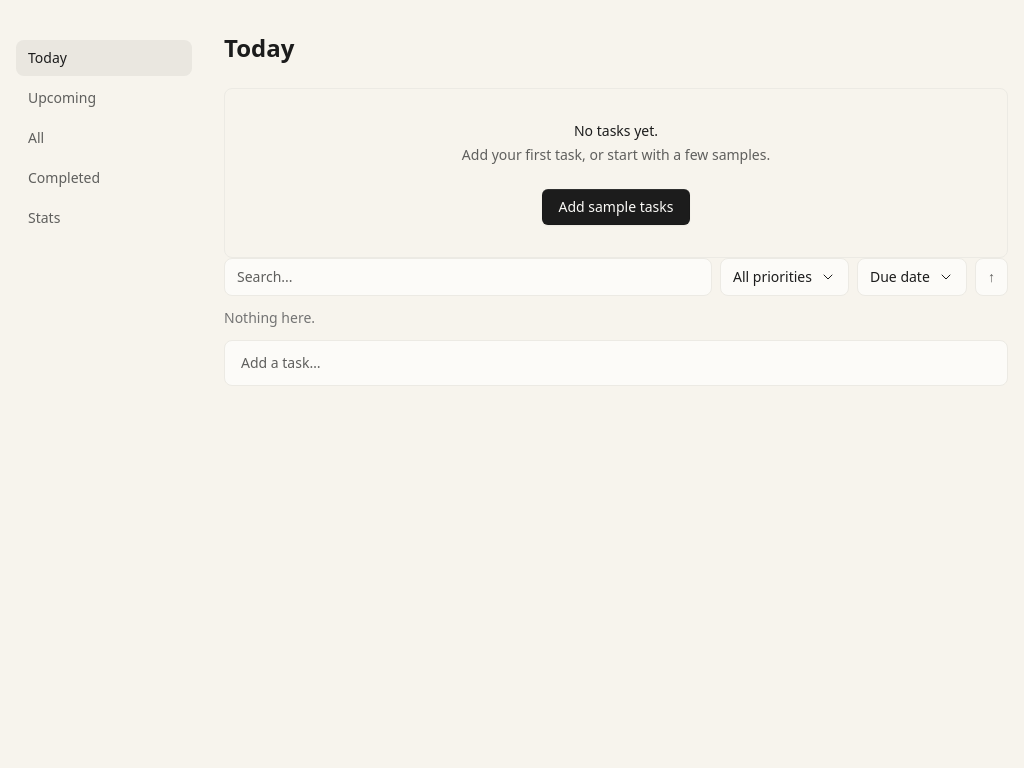
Test: QuickAdd AI — natural-language parse › successful parse pre-fills manual fields and confirming adds the task
Type keys "{Meta>}k{/Meta}"
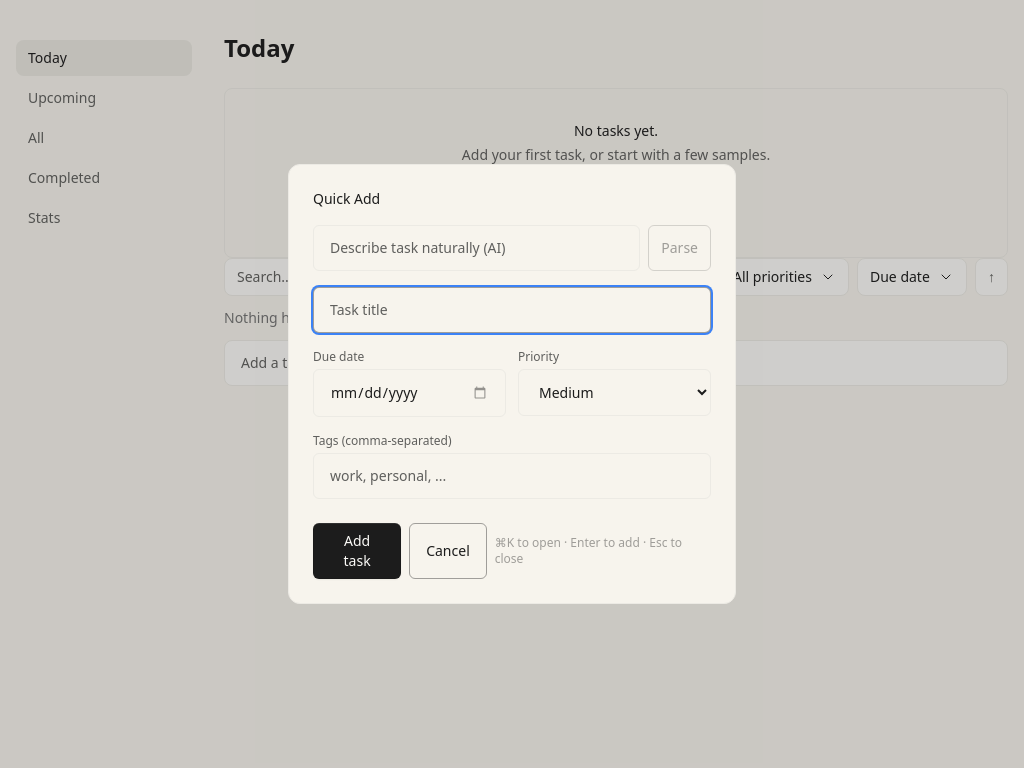
Type "team meeting tomorrow urgent" into the field labelled "Describe task naturally" at (477, 248), box [313, 225, 640, 271]
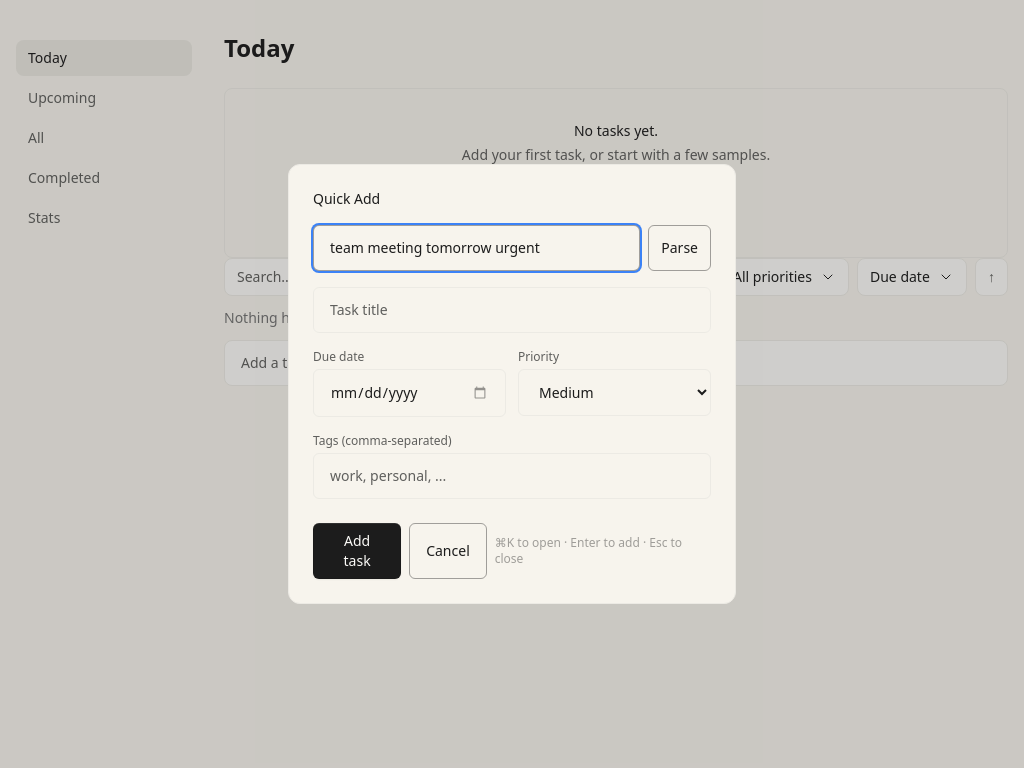
Click the button "Parse" at (680, 248), box [648, 225, 711, 271]
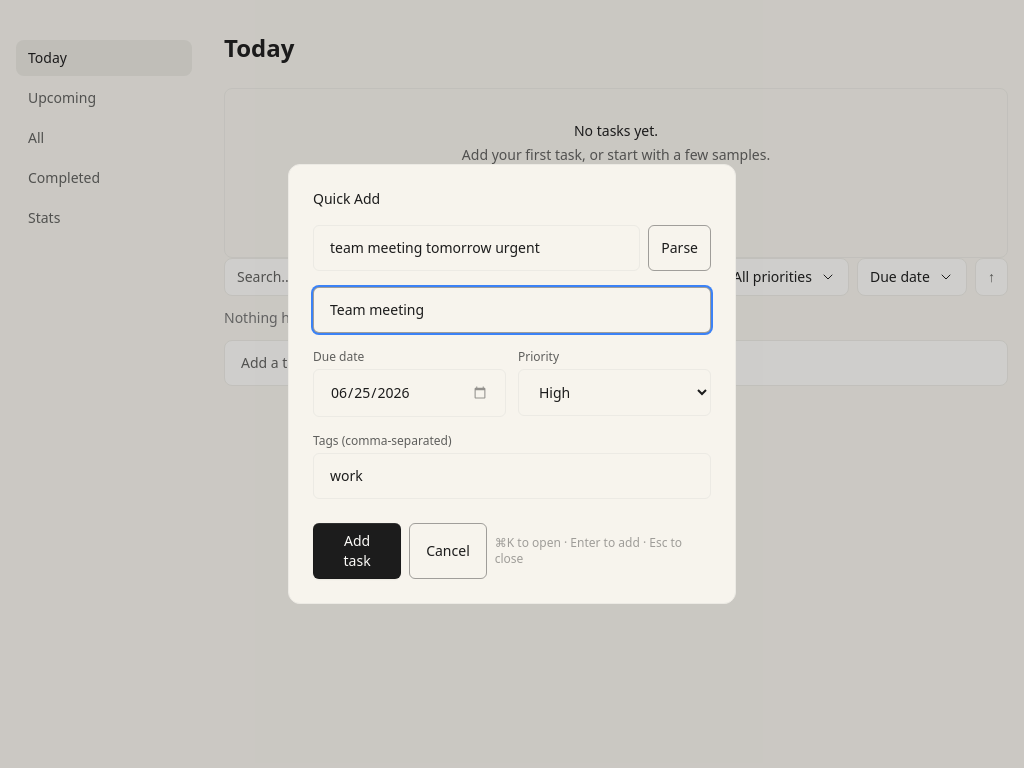
Result: the field named "Task title" holds "Team meeting" at [313, 287, 711, 333]
Note: Confirm by clicking Add task
Click the button "Add task" at (357, 551), box [313, 523, 401, 579]
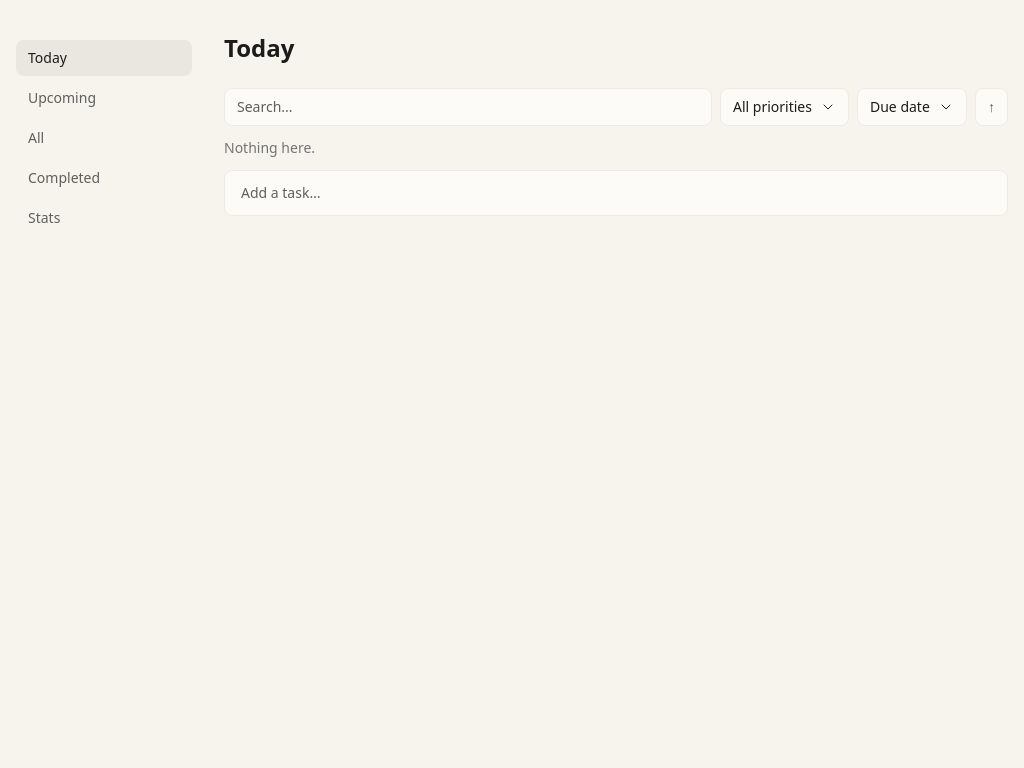
Note: Task appears in All view
Click the button "All" at (104, 138), box [16, 120, 192, 156]
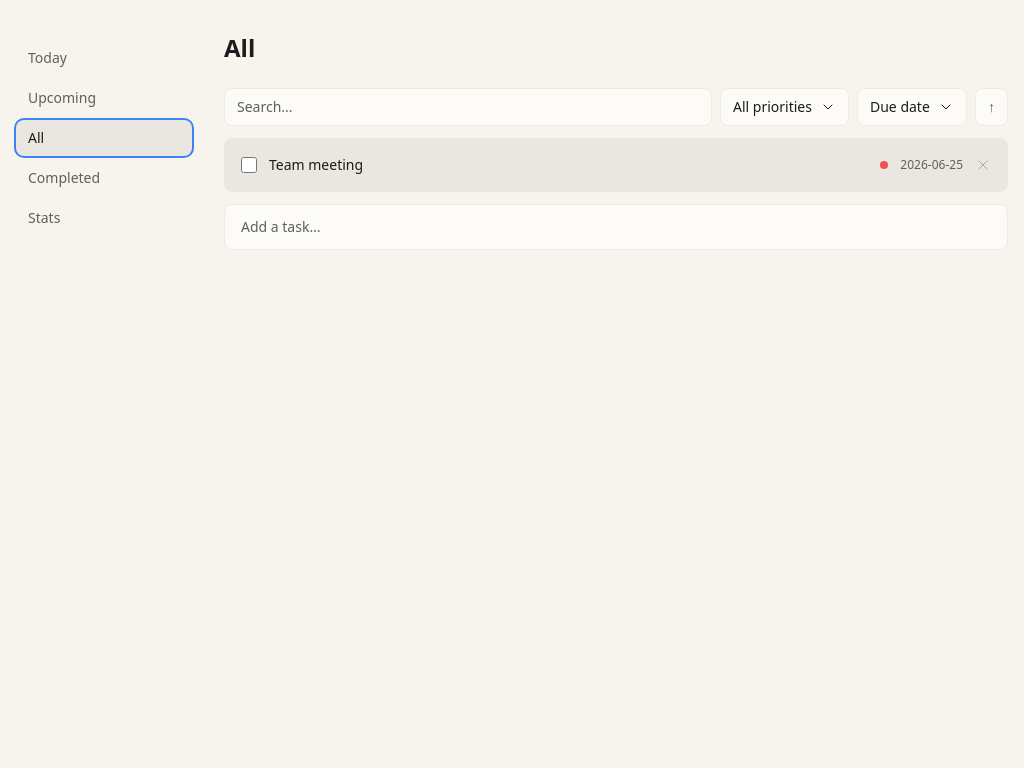
Result: the button "Team meeting" is shown at [269, 155, 868, 175]
